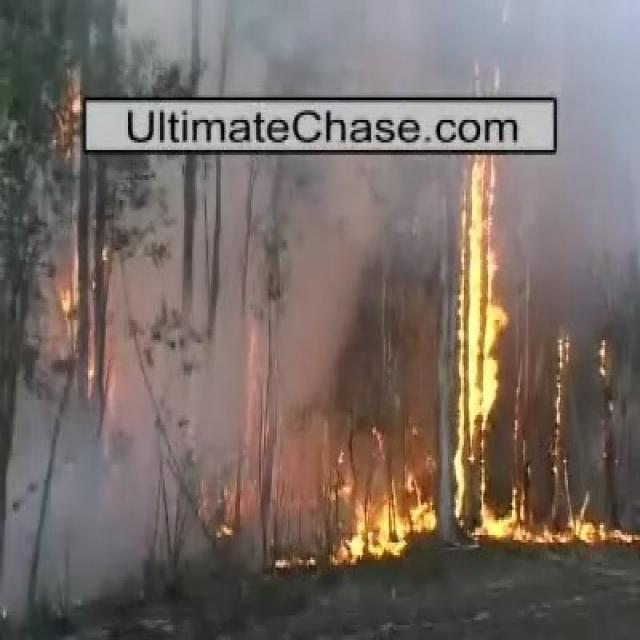fire: (456, 160, 494, 511), (350, 504, 436, 562)
smoke: (15, 406, 101, 594), (511, 10, 614, 91)
